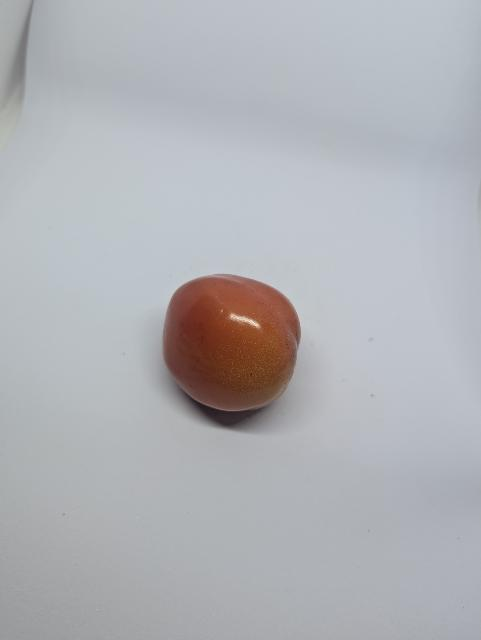red: (159, 261, 311, 422)
